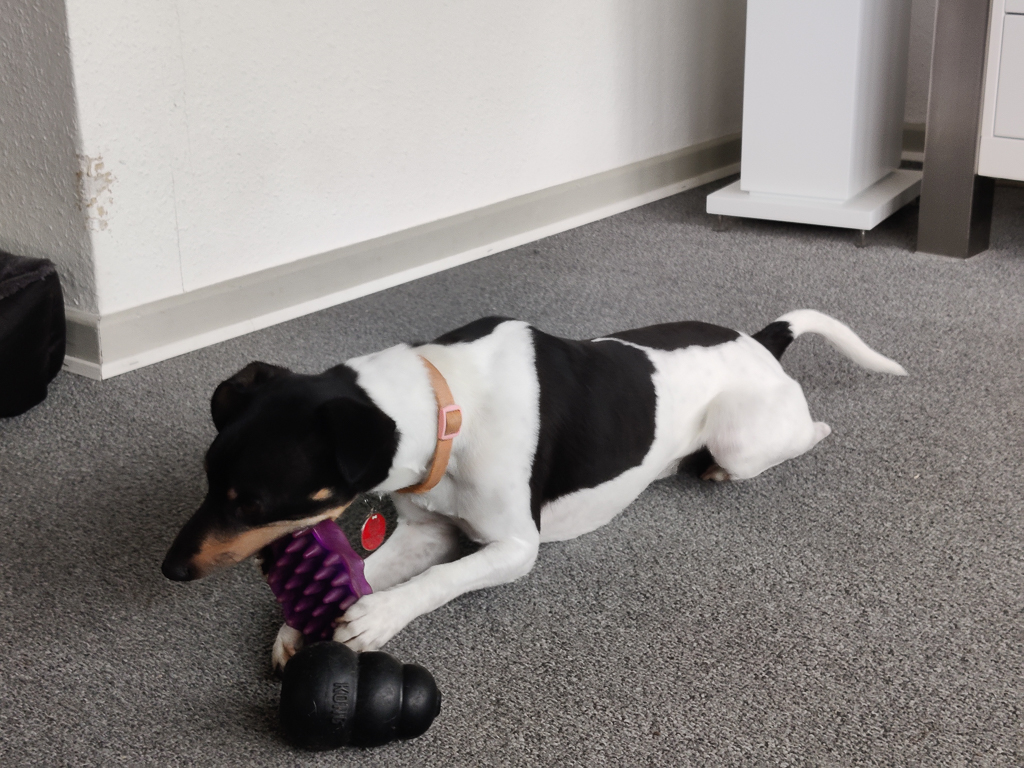Dog: (151, 301, 919, 684)
